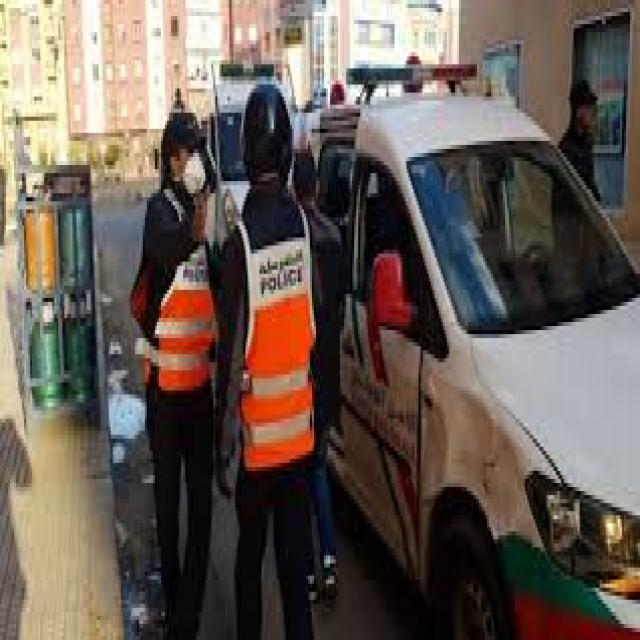police: (292, 72, 638, 640)
